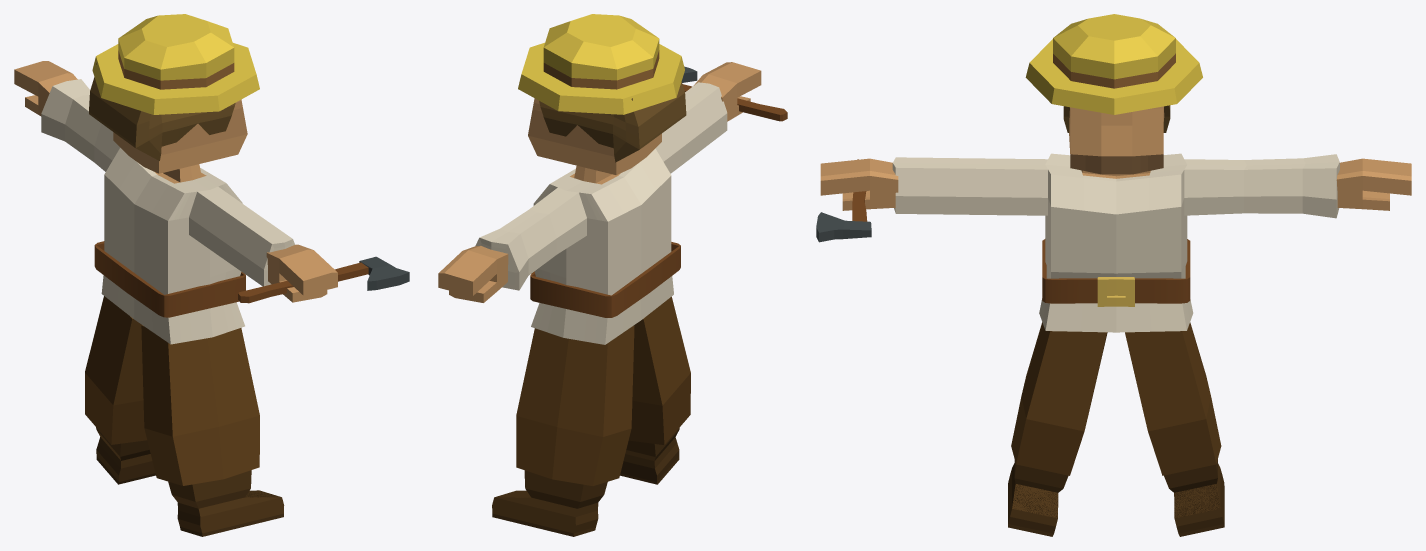
Rendered from Farmer.fbx.
3 views of the same model, side by side, from view 1: azimuth 30°, elevation 25°; view 2: azimuth 150°, elevation 25°; view 3: azimuth 270°, elevation 25° (orthographic). The views are drawn at different scales.
Visible parts, largest first — view 1: Cube.008, Cube, Circle, Cube.005, Cube.001, Cube.007, Cube.002, Cube.006; view 2: Cube.008, Cube, Circle, Cube.005, Cube.001, Cube.006, Cube.007, Cube.002; view 3: Cube, Cube.008, Circle, Cube.005, Cube.006, Cube.001, Cube.007, Cube.002, Cube.003.
Part boxes in pixels (x1,y1,x2,y2): Cube.008: (85, 296, 284, 536); Cube: (41, 79, 294, 344); Circle: (92, 14, 259, 114); Cube.005: (89, 63, 247, 173); Cube.001: (94, 241, 245, 317); Cube.007: (266, 244, 337, 302); Cube.002: (238, 256, 409, 303); Cube.006: (14, 61, 77, 116); Cube.008: (492, 296, 690, 536); Cube: (475, 82, 727, 344); Circle: (518, 14, 684, 114); Cube.005: (528, 82, 686, 174); Cube.001: (530, 242, 680, 317); Cube.006: (438, 245, 508, 302); Cube.007: (693, 62, 761, 121); Cube.002: (681, 66, 787, 121); Cube: (892, 153, 1339, 332); Cube.008: (1008, 322, 1224, 536); Circle: (1025, 14, 1202, 114); Cube.005: (1063, 105, 1170, 174); Cube.006: (1336, 158, 1411, 210); Cube.001: (1042, 239, 1190, 303); Cube.007: (820, 158, 898, 210); Cube.002: (816, 159, 871, 242); Cube.003: (1097, 277, 1134, 306).
Size of the model in its own units: 298 by 820 by 914.
